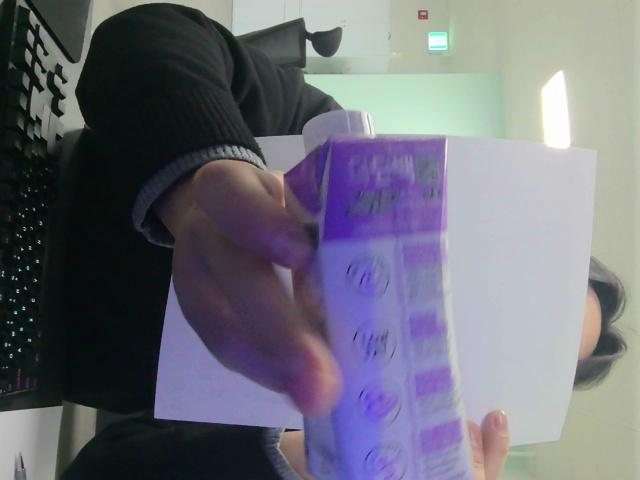milk: (287, 136, 473, 479)
